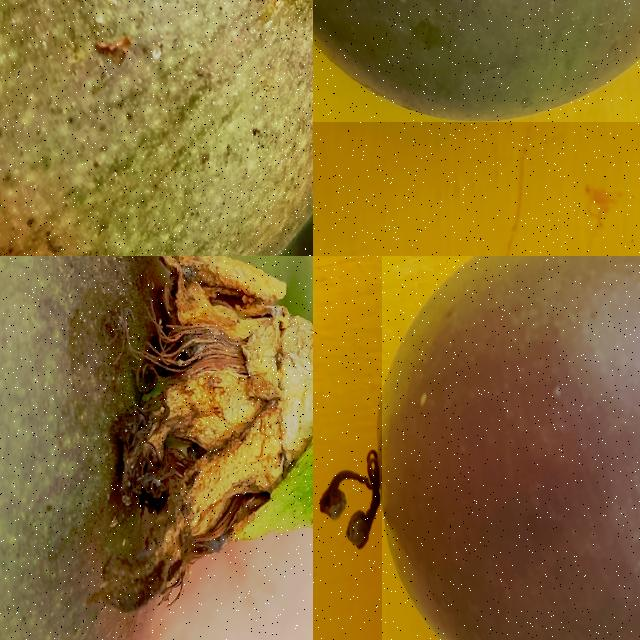Estado-5: (381, 256, 640, 640)
